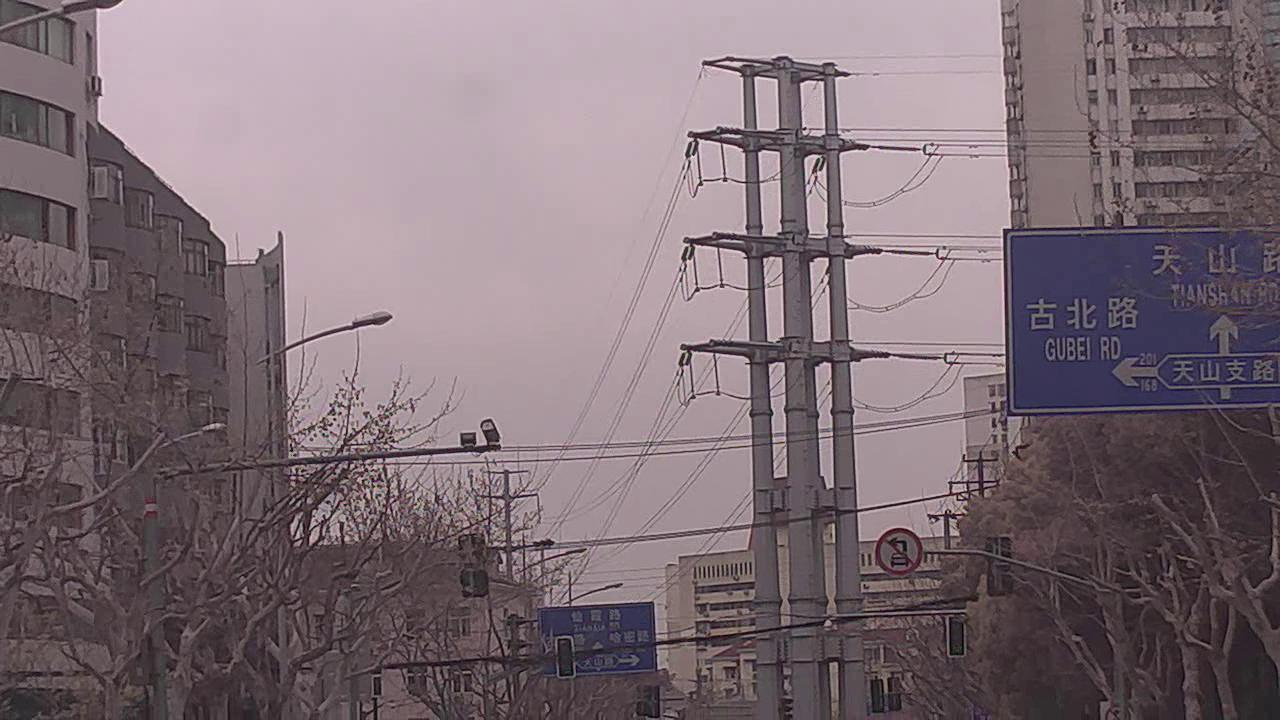traffic_light: (946, 613, 967, 660), (555, 638, 576, 680)
